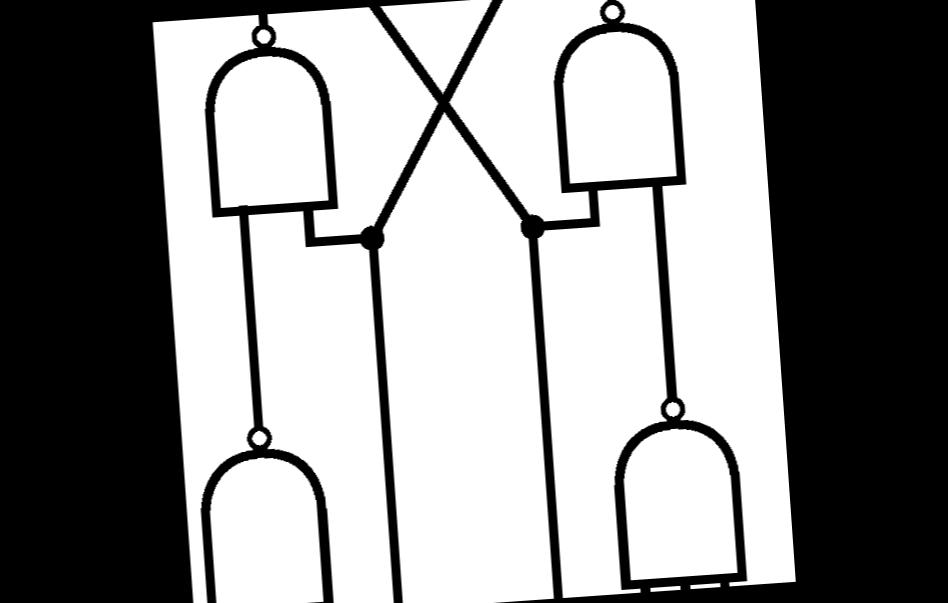nand: (586, 318, 774, 594), (534, 0, 715, 211), (184, 9, 350, 239), (184, 403, 350, 603)
